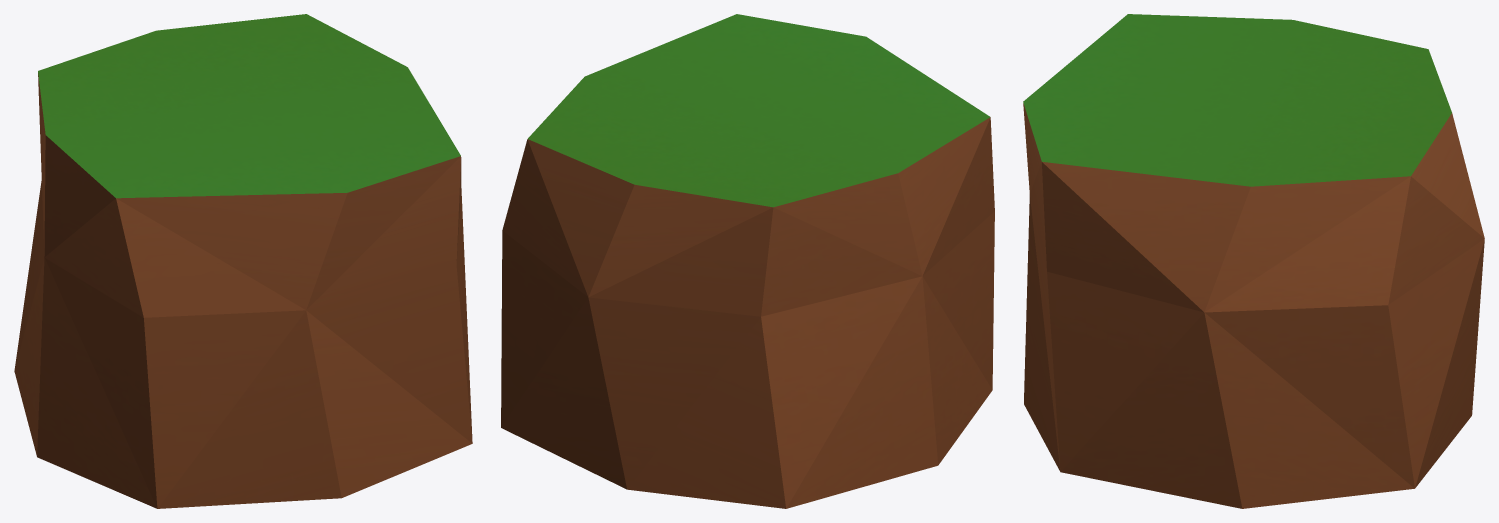
3 views of the same model, side by side, from view 1: azimuth 30°, elevation 25°; view 2: azimuth 150°, elevation 25°; view 3: azimuth 270°, elevation 25° (orthographic). The views are drawn at different scales.
Visible parts, largest first — view 1: Surface_06; view 2: Surface_06; view 3: Surface_06.
Boxes of the visible parts, box(x1,y1,x2,y2) form: Surface_06: box(14, 14, 472, 508); Surface_06: box(501, 14, 994, 508); Surface_06: box(1023, 14, 1484, 508).
Size of the model in its own units: 1271 by 940 by 1265.
